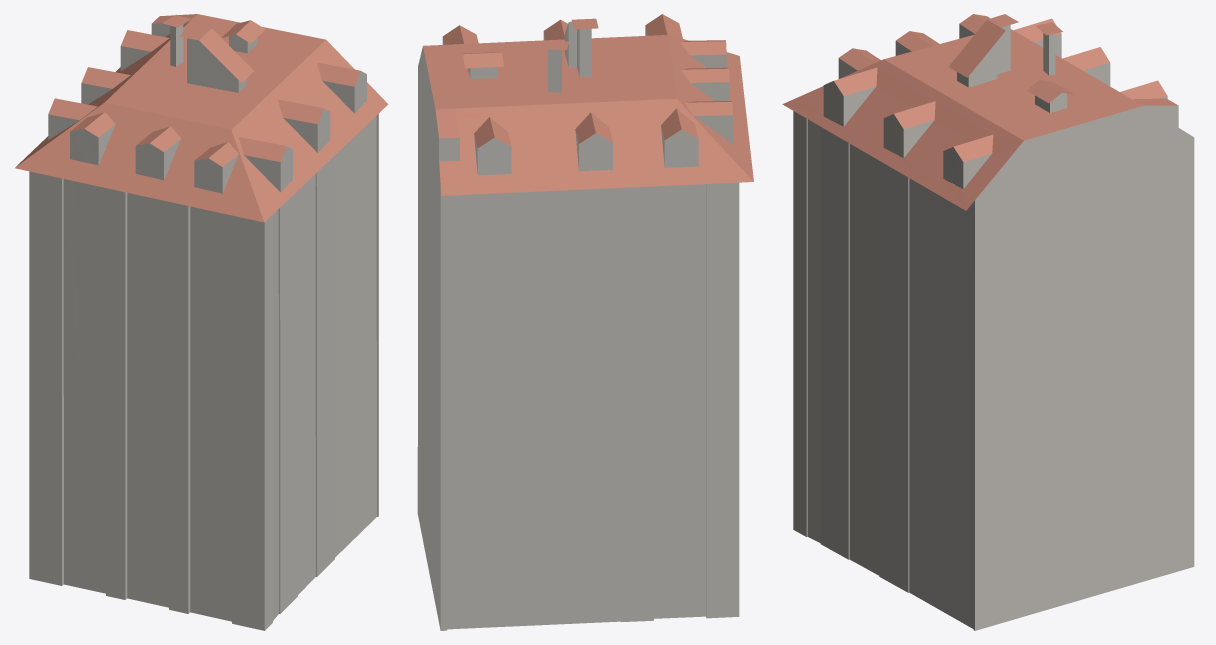
3 views of the same model, side by side, from view 1: azimuth 30°, elevation 25°; view 2: azimuth 150°, elevation 25°; view 3: azimuth 270°, elevation 25° (orthographic). The views are drawn at different scales.
Parts seen in each view (by area): view 1: swisstopo:swissbuildings3d:c04463ca-6953-440e-a884-7f36c4f6a; view 2: swisstopo:swissbuildings3d:c04463ca-6953-440e-a884-7f36c4f6a; view 3: swisstopo:swissbuildings3d:c04463ca-6953-440e-a884-7f36c4f6a.
Boxes of the visible parts, x1,y1,x2,y2 form: swisstopo:swissbuildings3d:c04463ca-6953-440e-a884-7f36c4f6a: (14, 14, 388, 630); swisstopo:swissbuildings3d:c04463ca-6953-440e-a884-7f36c4f6a: (417, 14, 753, 630); swisstopo:swissbuildings3d:c04463ca-6953-440e-a884-7f36c4f6a: (782, 14, 1194, 630).
Size of the model in its own units: 16.8 by 23.86 by 17.29.
